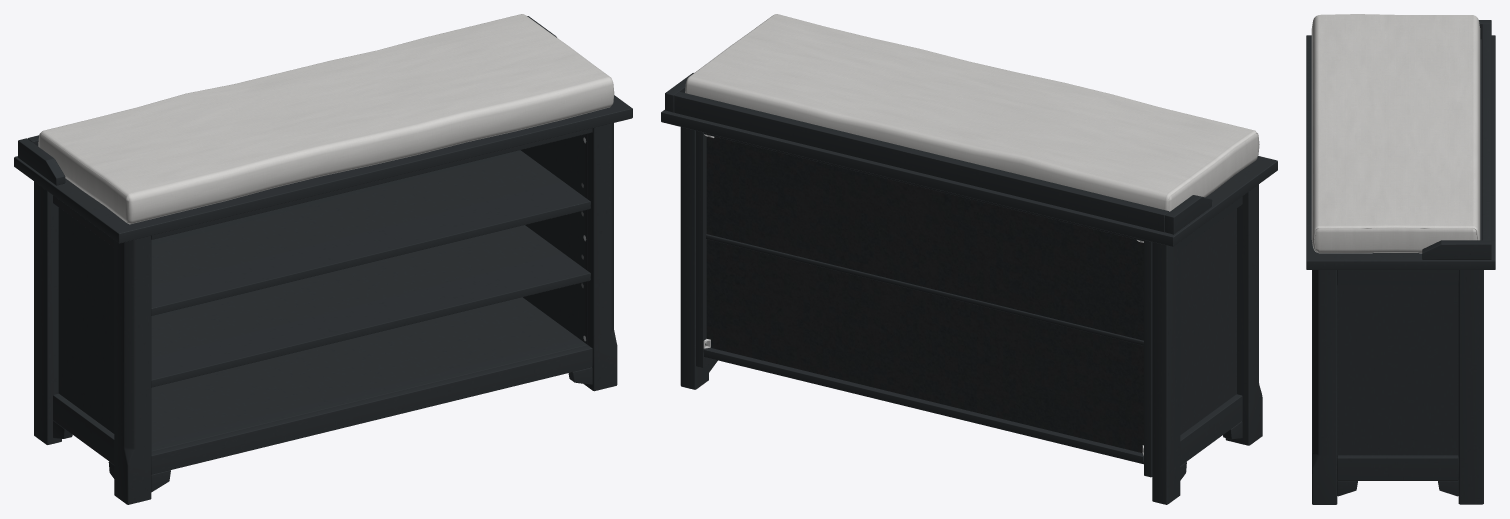
File: sofa_B07DBHFDSQ.glb
3 views of the same model, side by side, from view 1: azimuth 30°, elevation 25°; view 2: azimuth 150°, elevation 25°; view 3: azimuth 270°, elevation 25° (orthographic). The views are drawn at different scales.
Visible parts, largest first — view 1: RootNode; view 2: RootNode; view 3: RootNode.
Boxes of the visible parts, x1,y1,x2,y2 form: RootNode: (14,14,632,504); RootNode: (661,14,1277,504); RootNode: (1306,14,1495,504).
Size of the model in its own units: 0.9727 by 0.5613 by 0.3446.
Materials: 1 (1 with a texture image).
